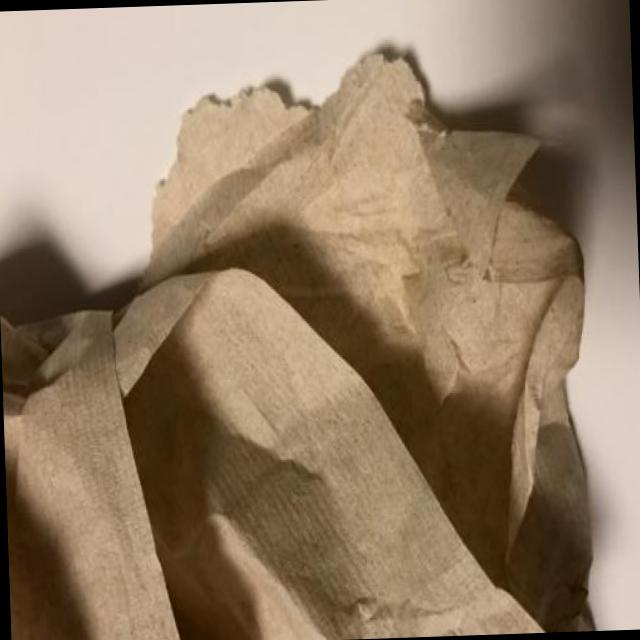giay: (0, 41, 595, 640)
